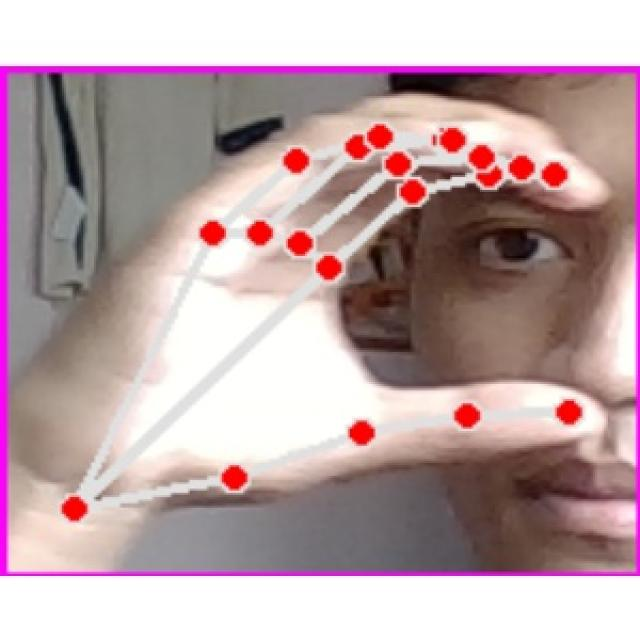C: (17, 82, 622, 541)
